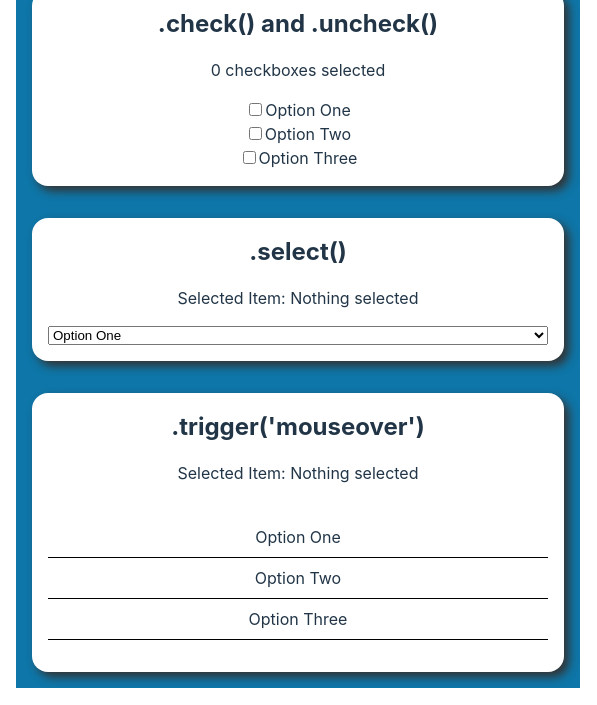
Scenario: Example 4: Click, Check, Select › should handle mouseover events
(page scrolled)
Hover over the list item "Option Three" at x=298, y=620, box 48,599 -> 548,640
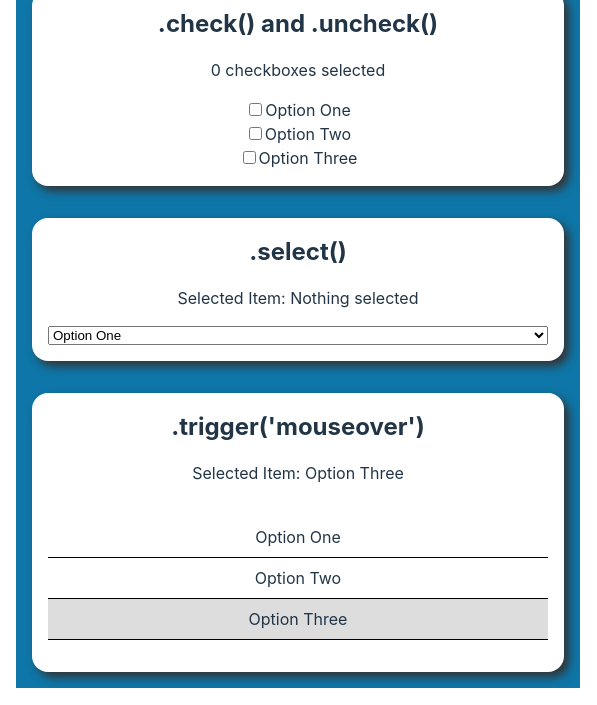
Expected: the text with test id "box-4-selected-name" reads "Option Three", 305,463 -> 404,483
